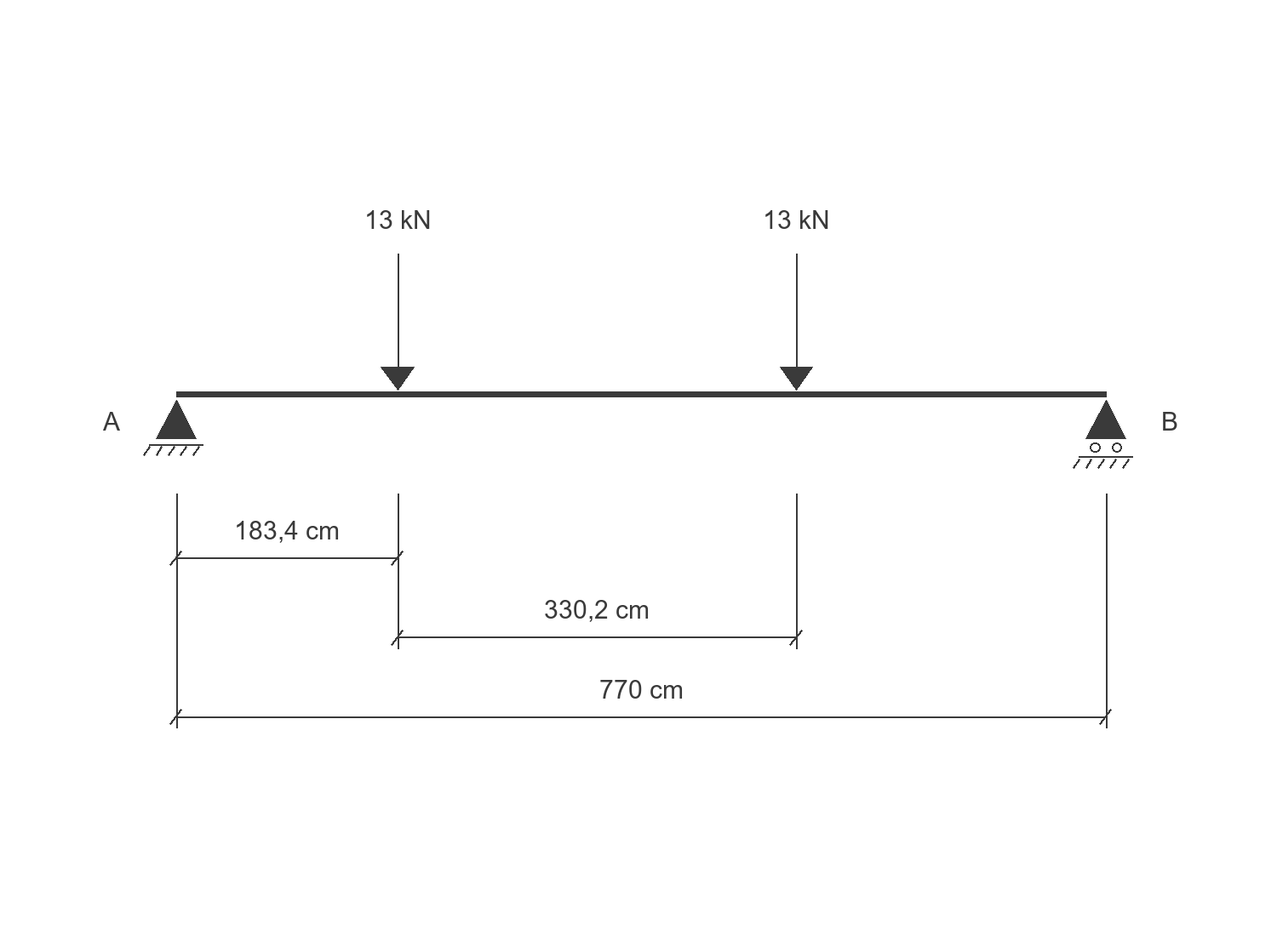pin_support: (143, 400, 203, 456)
point_load: (381, 254, 415, 391), (780, 254, 813, 391)
roller_support: (1073, 400, 1133, 469)
